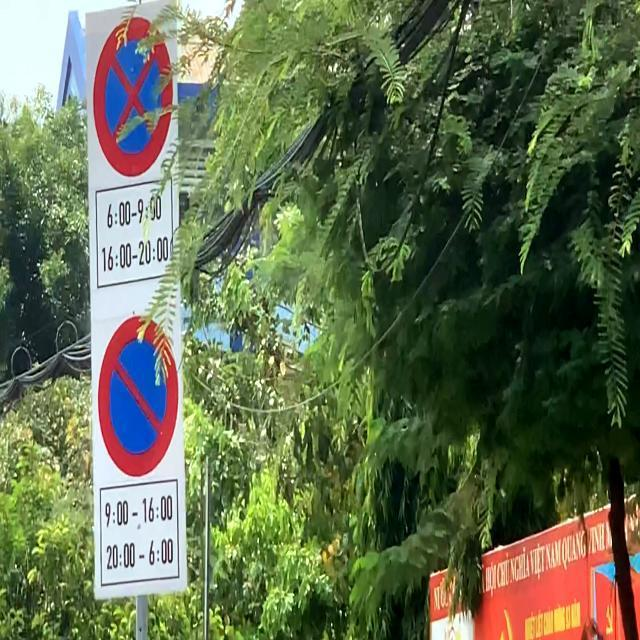130-cam-dung-va-do-xe: (93, 19, 171, 178)
131a-cam-do-xe: (95, 316, 182, 478)
